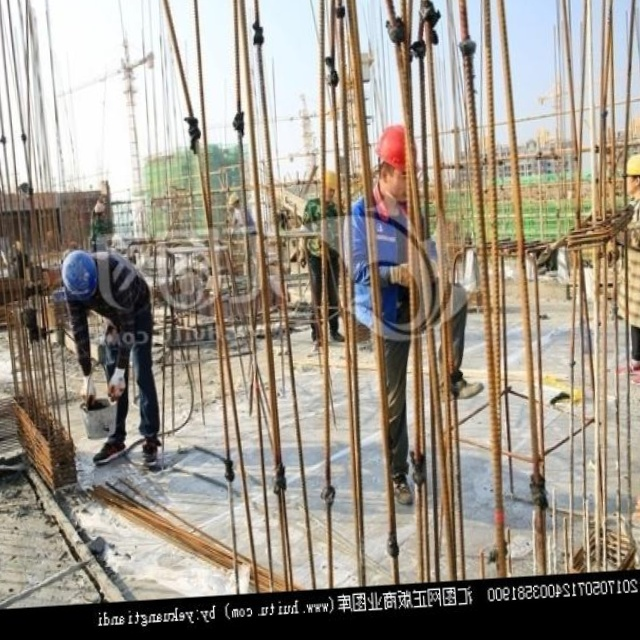Con_Casco: (372, 124, 420, 187), (59, 251, 96, 301), (622, 154, 640, 201)
